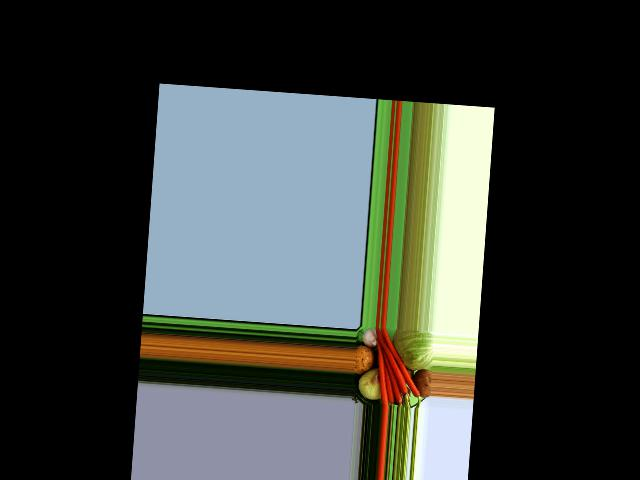carrot: (369, 330, 393, 406)
